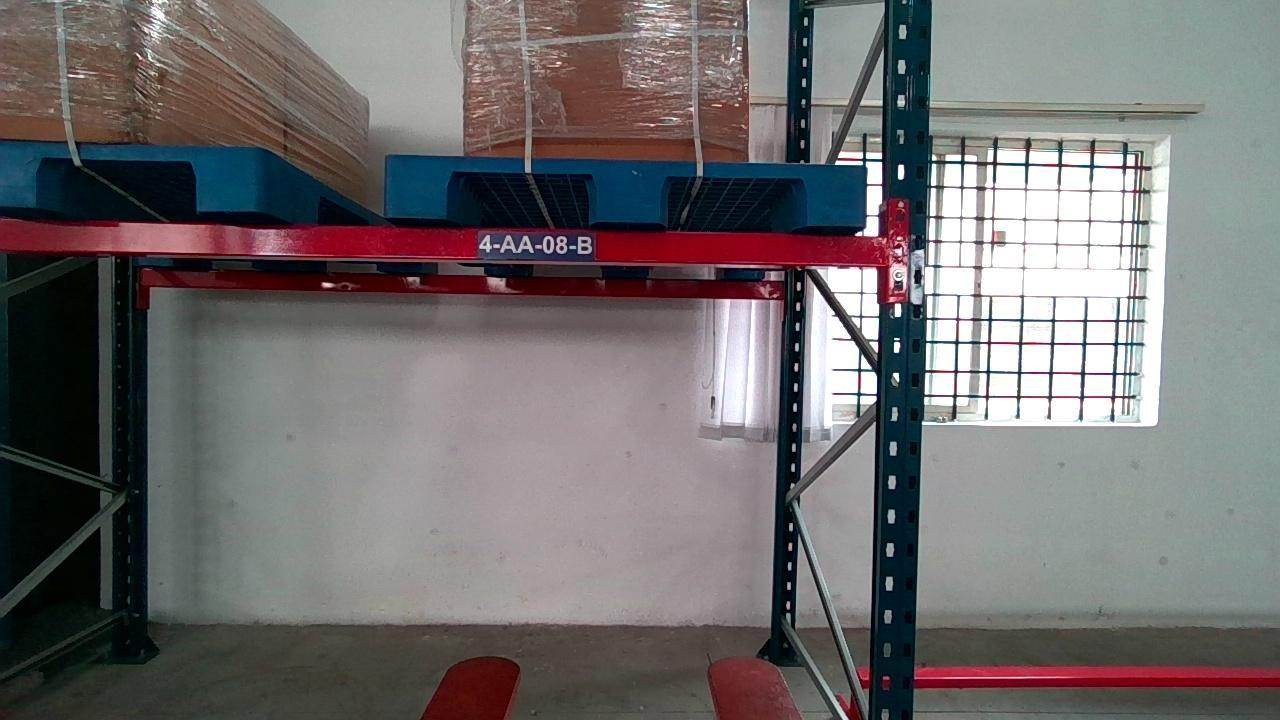h_rack: (1, 219, 889, 269)
small_pallet: (382, 155, 867, 222), (0, 140, 261, 208)
